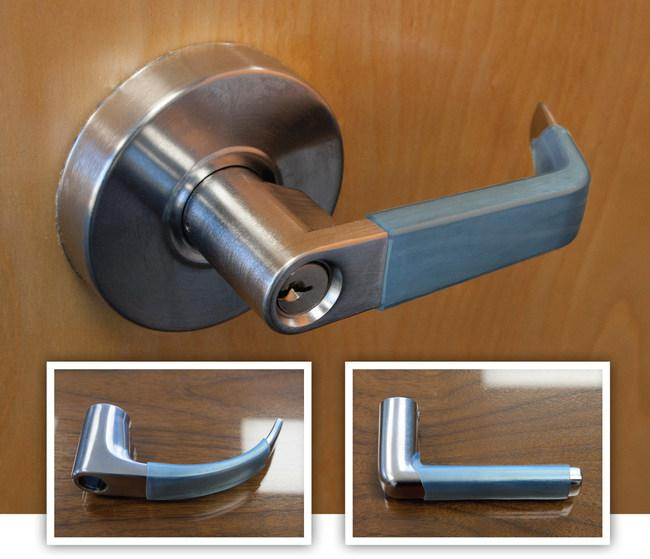doorhandle: (148, 103, 638, 340)
